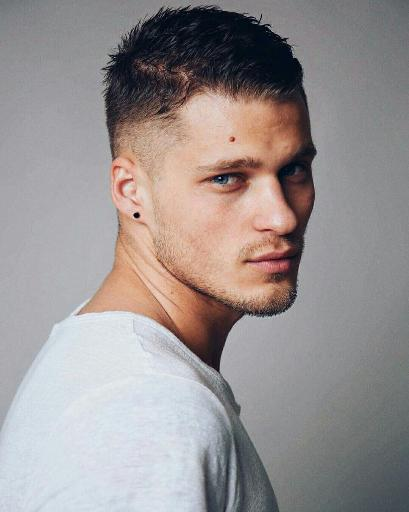left_eye: (280, 163, 311, 182)
left_lip_corner: (289, 251, 307, 269)
right_eye: (199, 171, 251, 194)
right_lip_corner: (242, 255, 259, 275)
